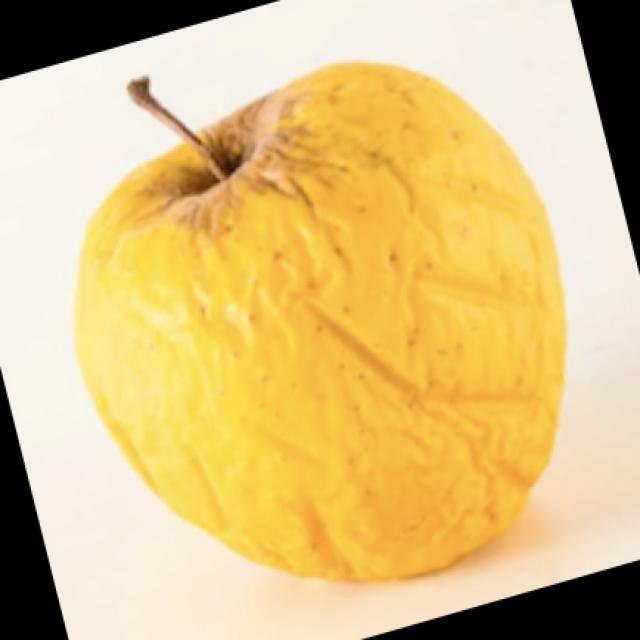organik: (115, 39, 586, 587)
